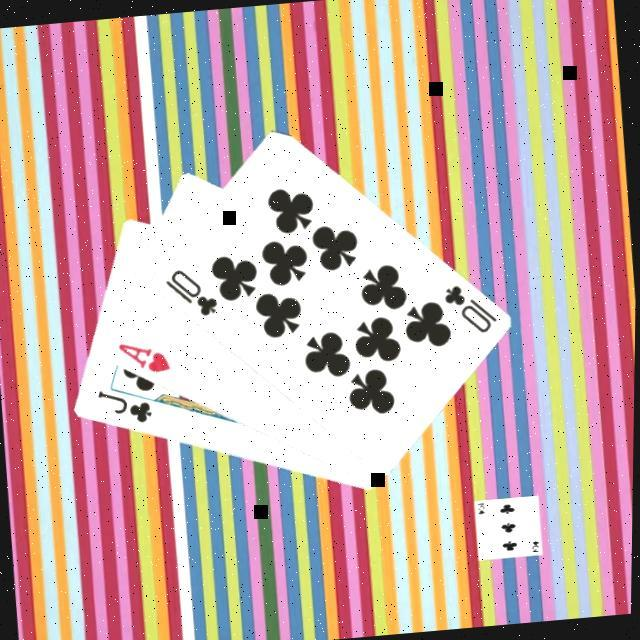10C: (439, 278, 503, 339), (161, 263, 223, 324)
AH: (114, 337, 176, 380)
JC: (93, 384, 157, 431)
